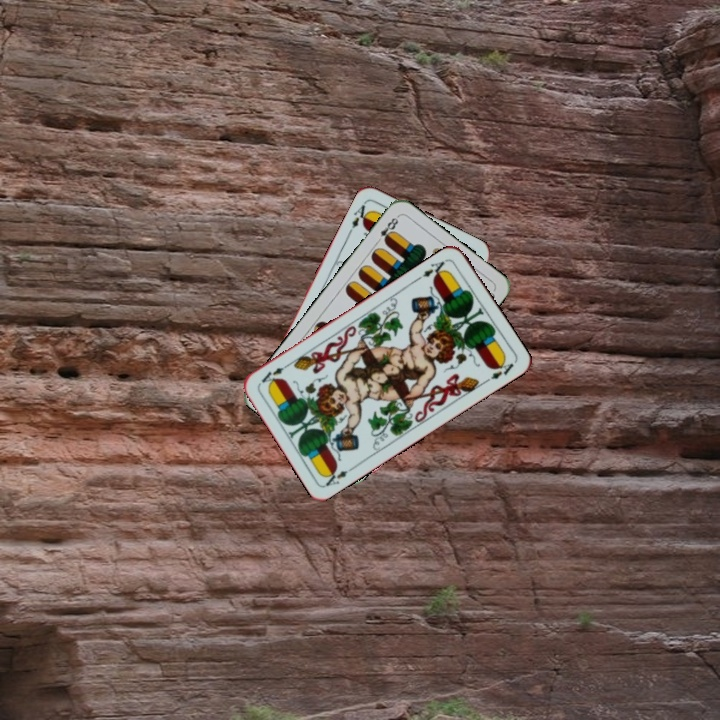E8: (372, 212, 401, 247)
EA: (347, 197, 373, 231), (418, 255, 450, 282), (320, 465, 350, 489)
